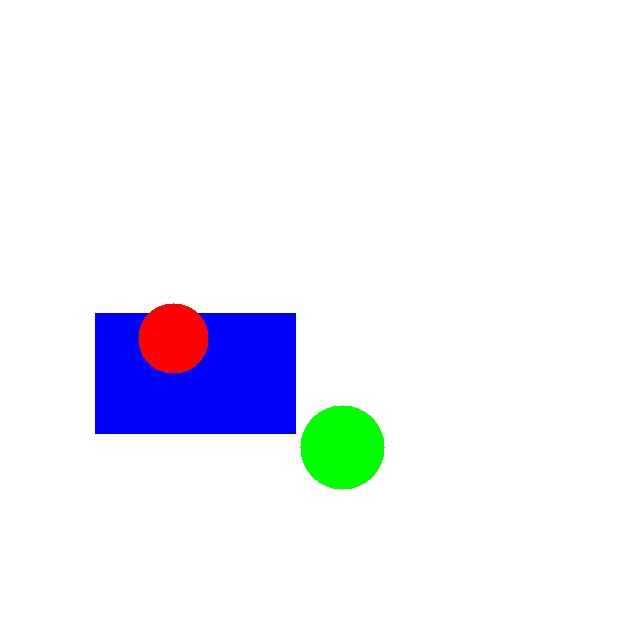cartao: (95, 313, 295, 433)
rosca_externa: (300, 405, 384, 489)
rosca_interna: (138, 303, 208, 373)
